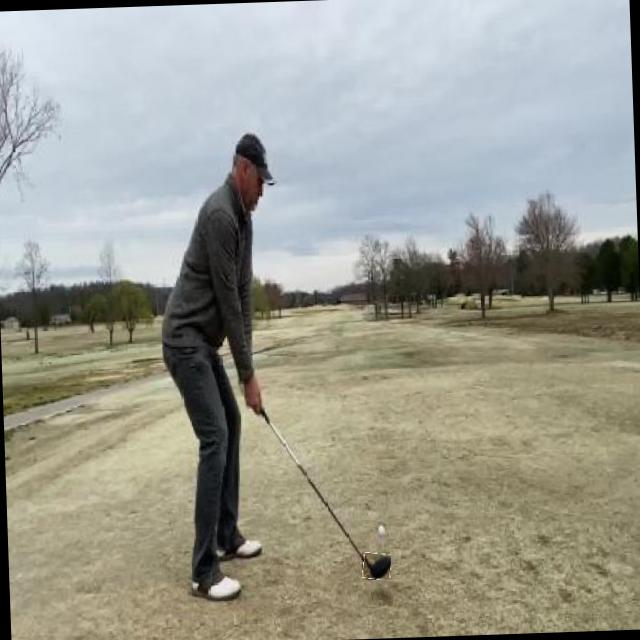club head: (361, 552, 391, 580)
